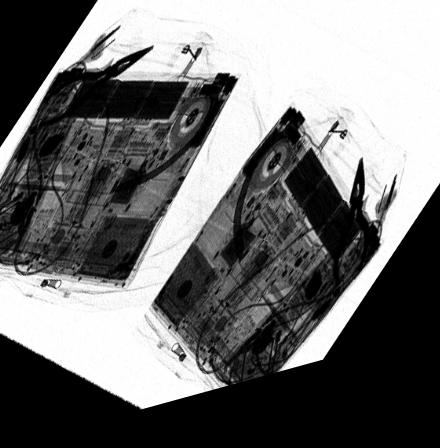Pliers: (35, 51, 157, 132), (329, 174, 374, 309)
